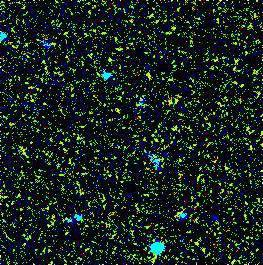star: (136, 61, 166, 91)
